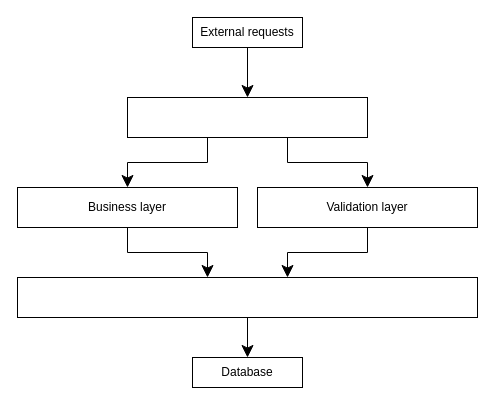
This 495x405 diagram has some shape labels left out. The shapes that lost their labels are listed below. From the top down, each one's centre as x and y in pixels, then its label:
At (x=247, y=117): "API Layer".
At (x=247, y=297): "Data access layer".
